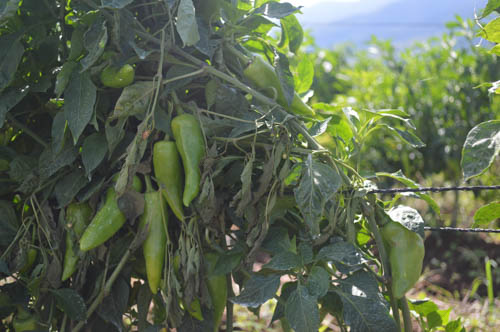ChiliPepper: (79, 173, 139, 255), (247, 54, 316, 122), (384, 219, 425, 306), (172, 113, 209, 209), (138, 188, 167, 294), (150, 141, 185, 221), (57, 206, 93, 282), (197, 253, 233, 329), (99, 62, 134, 90)
